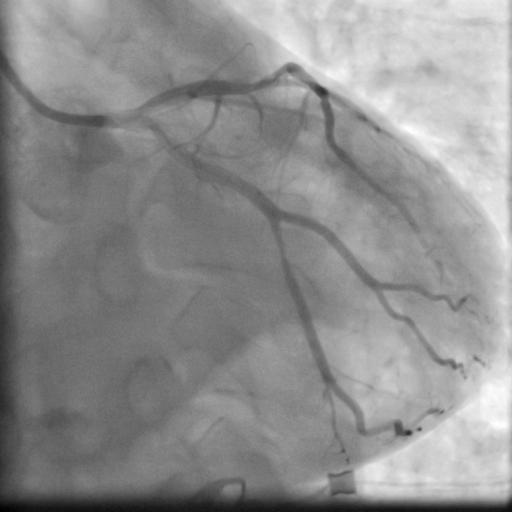Stenosis: (274, 226, 290, 273)
